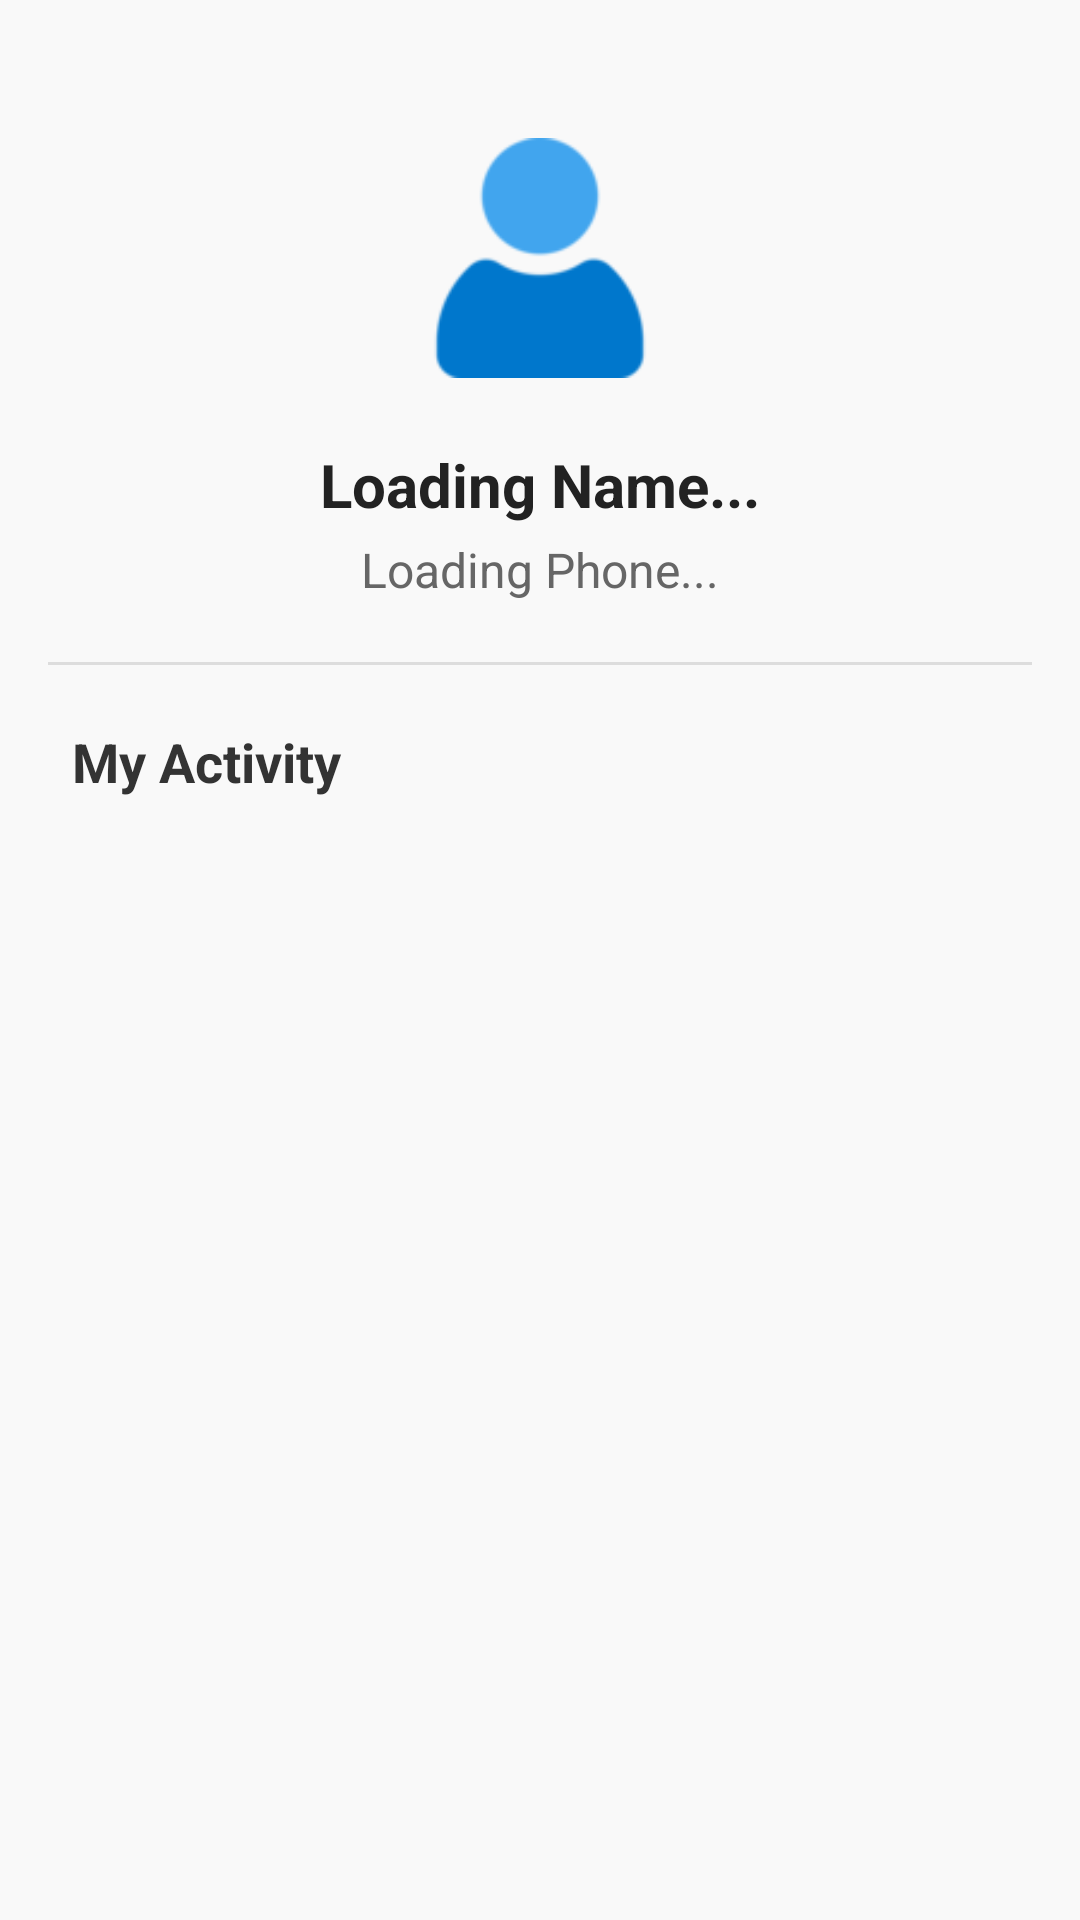

Screen size 1080 × 1920. Icon name, then its box in pixels as (x1, y1, x2, y2):
Profile Image: (435, 138, 645, 378)
